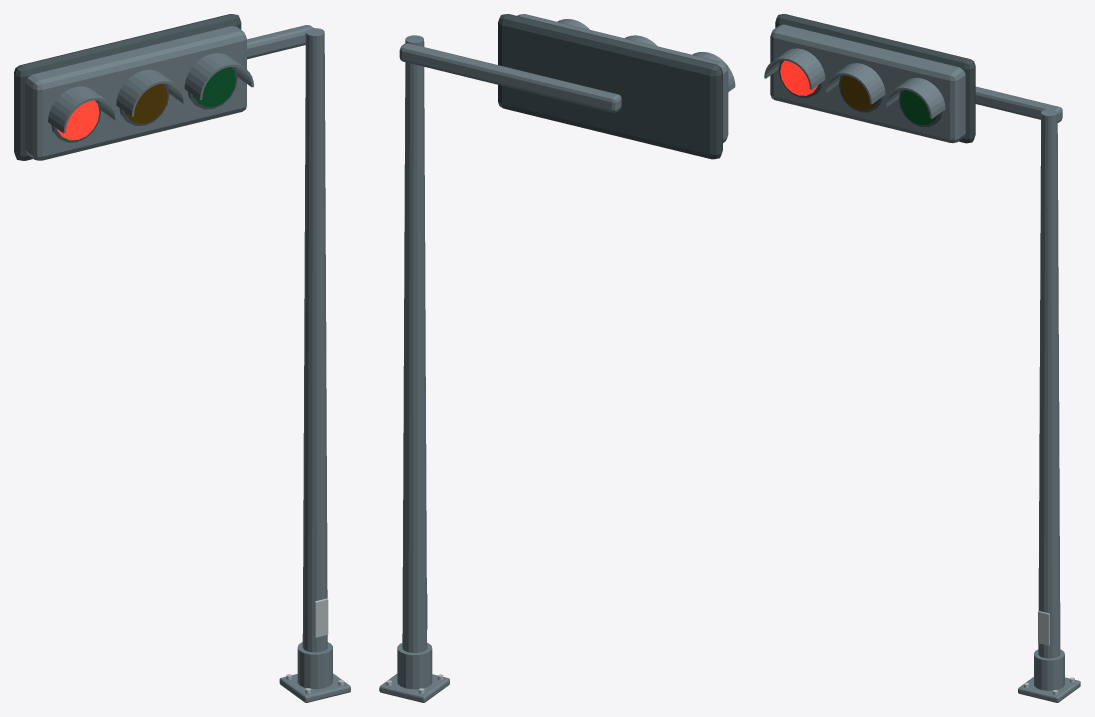
The model's file is SIMUS_Traffic_Light_Red.glb.
3 renders of one model, left to right at view 1: azimuth 30°, elevation 25°; view 2: azimuth 150°, elevation 25°; view 3: azimuth 330°, elevation 25°, orthographic. The views are drawn at different scales.
Visible parts, largest first — view 1: Signal pole, Signal housing, Signal backplate, Visor Red, Visor Amber, Pole foot, Visor Green, Signal arm, Lens Green, Lens Red, Lens Amber, Mounting plate (+1 smaller); view 2: Signal backplate, Signal pole, Signal arm, Pole foot, Signal housing, Mounting plate; view 3: Signal pole, Signal housing, Signal backplate, Signal arm, Visor Amber, Visor Red, Visor Green, Pole foot, Lens Green, Lens Red, Lens Amber, Mounting plate.
Part boxes in pixels (left/top/right/bottom): Signal pole: left=302, top=28, right=327, bottom=652; Signal housing: left=25, top=26, right=246, bottom=160; Signal backplate: left=14, top=14, right=241, bottom=160; Visor Red: left=48, top=86, right=117, bottom=133; Visor Amber: left=116, top=69, right=185, bottom=116; Pole foot: left=297, top=642, right=332, bottom=689; Visor Green: left=184, top=53, right=253, bottom=99; Signal arm: left=247, top=25, right=313, bottom=59; Lens Green: left=193, top=67, right=235, bottom=106; Lens Red: left=57, top=100, right=99, bottom=140; Lens Amber: left=125, top=83, right=167, bottom=123; Mounting plate: left=279, top=673, right=350, bottom=702; Signal backplate: left=498, top=14, right=722, bottom=159; Signal pole: left=402, top=35, right=427, bottom=652; Signal arm: left=399, top=43, right=621, bottom=112; Pole foot: left=397, top=642, right=432, bottom=689; Signal housing: left=517, top=14, right=728, bottom=142; Mounting plate: left=379, top=674, right=449, bottom=702; Signal pole: left=1038, top=109, right=1060, bottom=658; Signal housing: left=770, top=24, right=965, bottom=143; Signal backplate: left=775, top=14, right=975, bottom=143; Signal arm: left=975, top=86, right=1062, bottom=122; Visor Amber: left=824, top=63, right=885, bottom=104; Visor Red: left=764, top=48, right=825, bottom=89; Visor Green: left=884, top=77, right=945, bottom=118; Pole foot: left=1034, top=649, right=1064, bottom=690; Lens Green: left=900, top=90, right=937, bottom=124; Lens Red: left=780, top=60, right=817, bottom=95; Lens Amber: left=840, top=75, right=877, bottom=110; Mounting plate: left=1018, top=677, right=1080, bottom=702.
Bounding box in the file's own units: 2.98 × 6.07 × 0.78.
